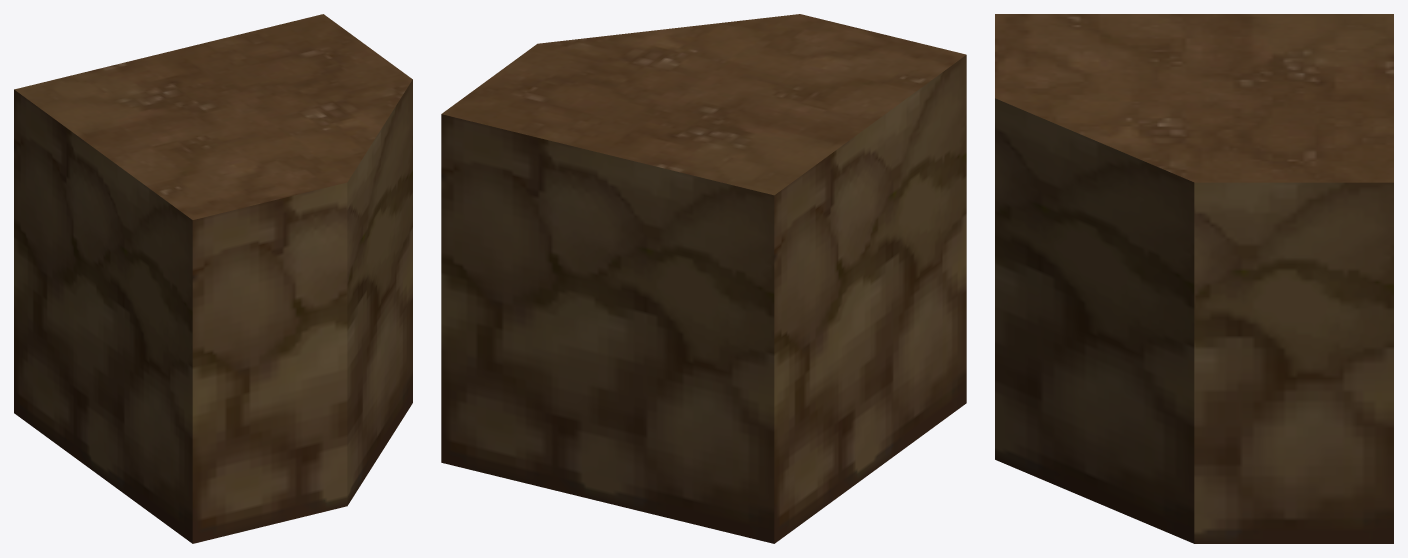
The model's file is dirt_03.fbx.
3 renders of one model, left to right at view 1: azimuth 30°, elevation 25°; view 2: azimuth 150°, elevation 25°; view 3: azimuth 270°, elevation 25°, orthographic. The views are drawn at different scales.
Parts seen in each view (by area): view 1: Dirt_03; view 2: Dirt_03; view 3: Dirt_03.
Part boxes in pixels (x1,y1,x2,y2): Dirt_03: (14, 14, 412, 543); Dirt_03: (441, 14, 966, 543); Dirt_03: (995, 14, 1393, 543).
Bounding box in the file's own units: 100 × 100 × 100.
